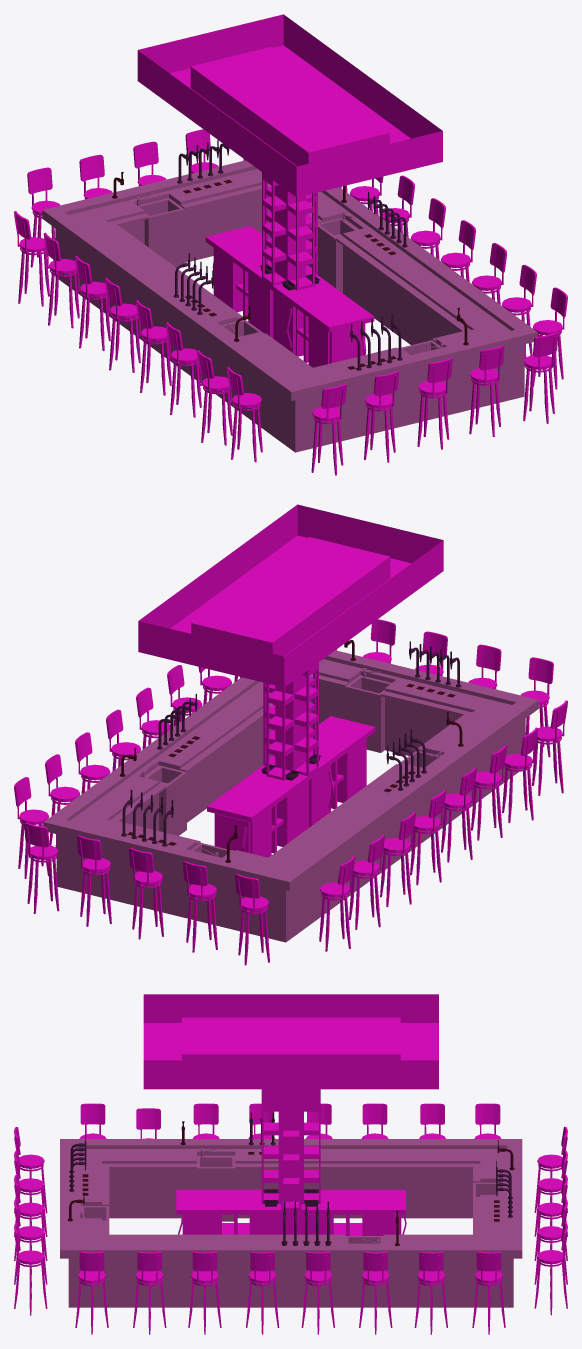
Rendered from Bar_v02.fbx.
3 views of the same model, one above another, from view 1: azimuth 30°, elevation 25°; view 2: azimuth 150°, elevation 25°; view 3: azimuth 270°, elevation 25° (orthographic). The views are drawn at different scales.
Parts seen in each view (by area): view 1: Rest_Bar_Set01_CenterCeiling, Rest_Bar_Set02_Counter, Rest_Bar_Set02_CounterBottom, Rest_Bar_Set01_CenterCounter, Rest_Bar_Set01_MiniFridge_Inner (×3), Rest_Bar_Set02_CounterBumper, Rest_Bar_Set01_MiniFridge_Door (×2), Rest_Bar_Set01_LiquorHolder_04 (×3), Rest_Bar_Set01_BarStool_Back (×3), Rest_Bar, Rest_Bar_Set01_LiquorHolder_Top, Rest_Bar_Set01_LiquorHolder_01; view 2: Rest_Bar_Set01_CenterCeiling, Rest_Bar_Set02_Counter, Rest_Bar_Set02_CounterBottom, Rest_Bar_Set01_CenterCounter, Rest_Bar_Set01_MiniFridge_Inner (×3), Rest_Bar_Set02_CounterBumper, Rest_Bar_Set01_MiniFridge_Door (×2), Rest_Bar_Set01_LiquorHolder_03 (×3), Rest_Bar_Set01_BarStool_Back (×2), Rest_Bar_Set01_LiquorHolder_01 (×2), Rest_Bar; view 3: Rest_Bar_Set01_CenterCeiling, Rest_Bar_Set02_CounterBottom, Rest_Bar_Set02_Counter, Rest_Bar_Set01_BarStool_Back (×14), Rest_Bar_Set01_CenterCounter, Rest_Bar_Set02_CounterBumper, Rest_Bar_Set01_MiniFridge_Inner (×3), Rest_Bar_Set01_LiquorHolder_Top, Rest_Bar_Set01_LiquorHolder_02 (×4), Rest_Bar, Rest_Bar_Set01_MiniFridge_Door, Rest_Bar_Set02_Sink_01.
Boxes of the visible parts, x1,y1,x2,y2 form: Rest_Bar_Set01_CenterCeiling: [137, 14, 442, 197]; Rest_Bar_Set02_Counter: [42, 160, 537, 400]; Rest_Bar_Set02_CounterBottom: [55, 191, 524, 452]; Rest_Bar_Set01_CenterCounter: [205, 226, 374, 332]; Rest_Bar_Set01_MiniFridge_Inner (×3): [213, 248, 329, 367]; Rest_Bar_Set02_CounterBumper: [109, 183, 470, 369]; Rest_Bar_Set01_MiniFridge_Door (×2): [273, 291, 365, 363]; Rest_Bar_Set01_LiquorHolder_04 (×3): [286, 206, 314, 290]; Rest_Bar_Set01_BarStool_Back (×3): [27, 141, 158, 194]; Rest_Bar: [236, 264, 319, 362]; Rest_Bar_Set01_LiquorHolder_Top: [262, 86, 317, 183]; Rest_Bar_Set01_LiquorHolder_01: [262, 202, 286, 234]; Rest_Bar_Set01_CenterCeiling: [138, 504, 443, 687]; Rest_Bar_Set02_Counter: [43, 650, 538, 890]; Rest_Bar_Set02_CounterBottom: [56, 680, 525, 942]; Rest_Bar_Set01_CenterCounter: [207, 716, 375, 822]; Rest_Bar_Set01_MiniFridge_Inner (×3): [214, 738, 366, 857]; Rest_Bar_Set02_CounterBumper: [110, 673, 471, 859]; Rest_Bar_Set01_MiniFridge_Door (×2): [215, 765, 330, 853]; Rest_Bar_Set01_LiquorHolder_03 (×3): [266, 697, 294, 780]; Rest_Bar_Set01_BarStool_Back (×2): [476, 644, 553, 683]; Rest_Bar_Set01_LiquorHolder_01 (×2): [294, 692, 318, 750]; Rest_Bar: [261, 754, 343, 853]; Rest_Bar_Set01_CenterCeiling: [143, 994, 438, 1089]; Rest_Bar_Set02_CounterBottom: [68, 1169, 513, 1307]; Rest_Bar_Set02_Counter: [60, 1139, 522, 1258]; Rest_Bar_Set01_BarStool_Back (×14): [79, 1103, 501, 1271]; Rest_Bar_Set01_CenterCounter: [176, 1189, 405, 1214]; Rest_Bar_Set02_CounterBumper: [102, 1163, 480, 1235]; Rest_Bar_Set01_MiniFridge_Inner (×3): [186, 1214, 398, 1235]; Rest_Bar_Set01_LiquorHolder_Top: [261, 1025, 320, 1115]; Rest_Bar_Set01_LiquorHolder_02 (×4): [281, 1115, 301, 1209]; Rest_Bar: [222, 1189, 362, 1235]; Rest_Bar_Set01_MiniFridge_Door: [296, 1214, 331, 1234]; Rest_Bar_Set02_Sink_01: [197, 1155, 235, 1168].
Bounding box in the file's own units: 211 × 155 × 329.
